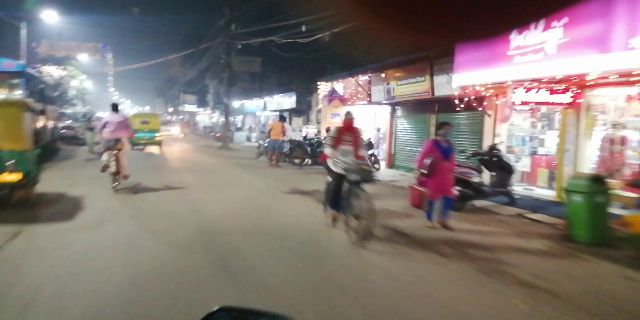Cycle: (323, 110, 390, 248), (97, 101, 134, 195)
